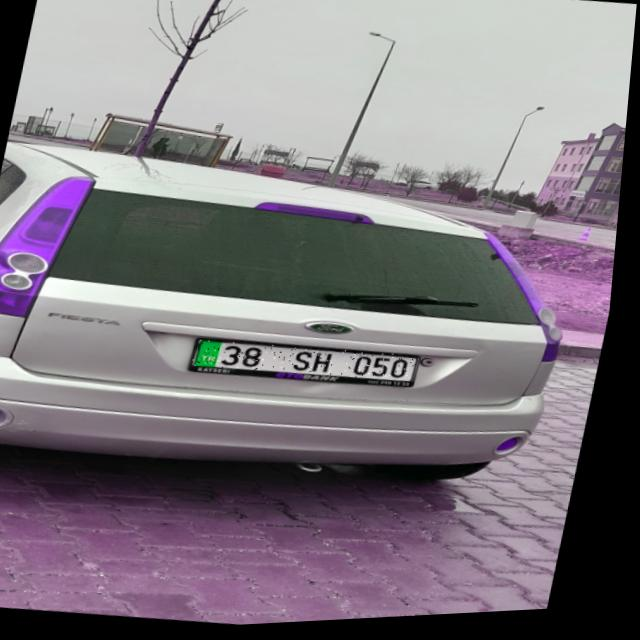license_plate: (195, 333, 427, 395)
